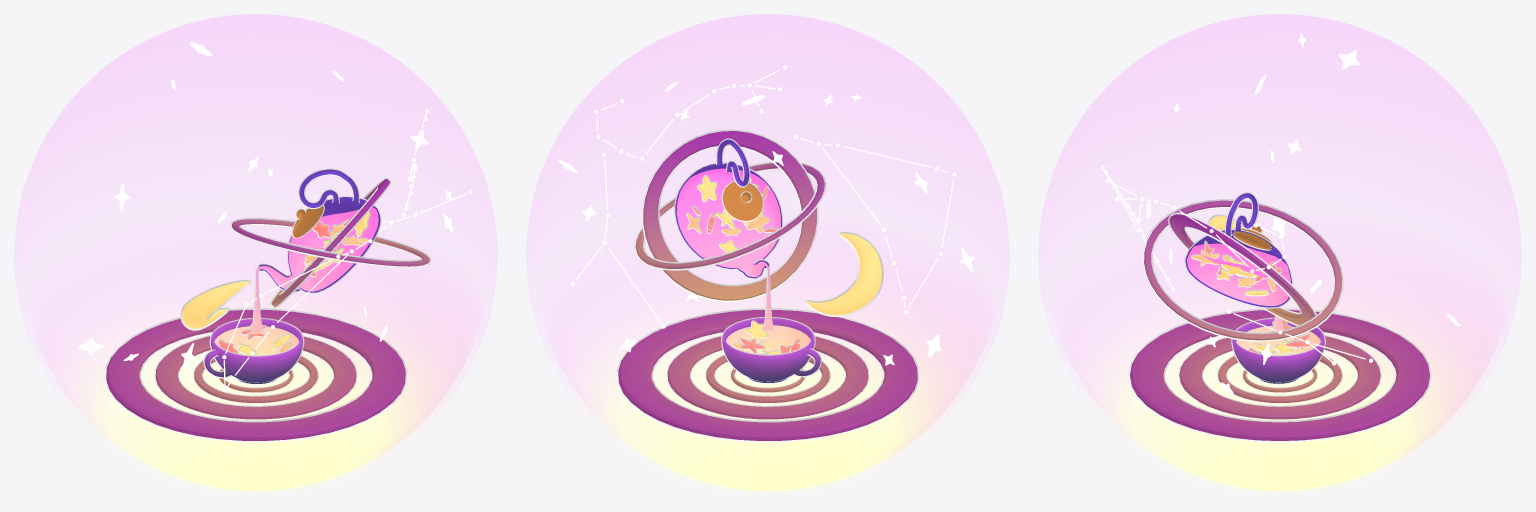
Rendered from galax_tea.glb.
3 views of the same model, side by side, from view 1: azimuth 30°, elevation 25°; view 2: azimuth 150°, elevation 25°; view 3: azimuth 270°, elevation 25° (orthographic).
Parts seen in each view (by area): view 1: Object_7, Object_8, Object_3, Object_5, Object_2, Object_4, Object_6; view 2: Object_7, Object_8, Object_3, Object_5, Object_2, Object_4, Object_6; view 3: Object_7, Object_8, Object_3, Object_5, Object_2, Object_6, Object_4.
Part boxes in pixels (x1,y1,x2,y2): Object_7: (28,212,483,491); Object_8: (106,310,405,440); Object_3: (104,177,431,442); Object_5: (214,109,428,355); Object_2: (180,168,381,385); Object_4: (182,189,472,392); Object_6: (78,42,465,387); Object_7: (540,212,995,491); Object_8: (618,310,917,440); Object_3: (616,129,919,442); Object_5: (594,65,810,354); Object_2: (674,138,883,384); Object_4: (602,135,956,354); Object_6: (558,69,975,365); Object_7: (1052,212,1507,491); Object_8: (1130,310,1429,440); Object_3: (1128,199,1431,442); Object_5: (1106,179,1320,355); Object_2: (1184,192,1300,384); Object_6: (1103,32,1460,393); Object_4: (1100,166,1310,354).
Size of the model in its own units: 142 by 142 by 142.
Materials: 4 (3 with a texture image).
